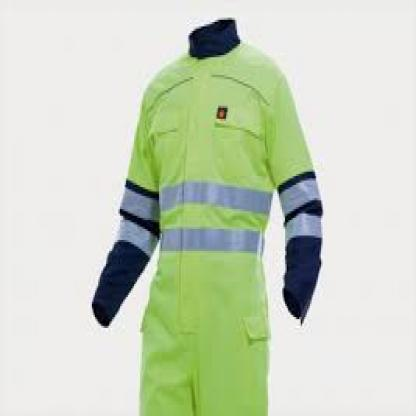vest: (106, 47, 322, 396)
